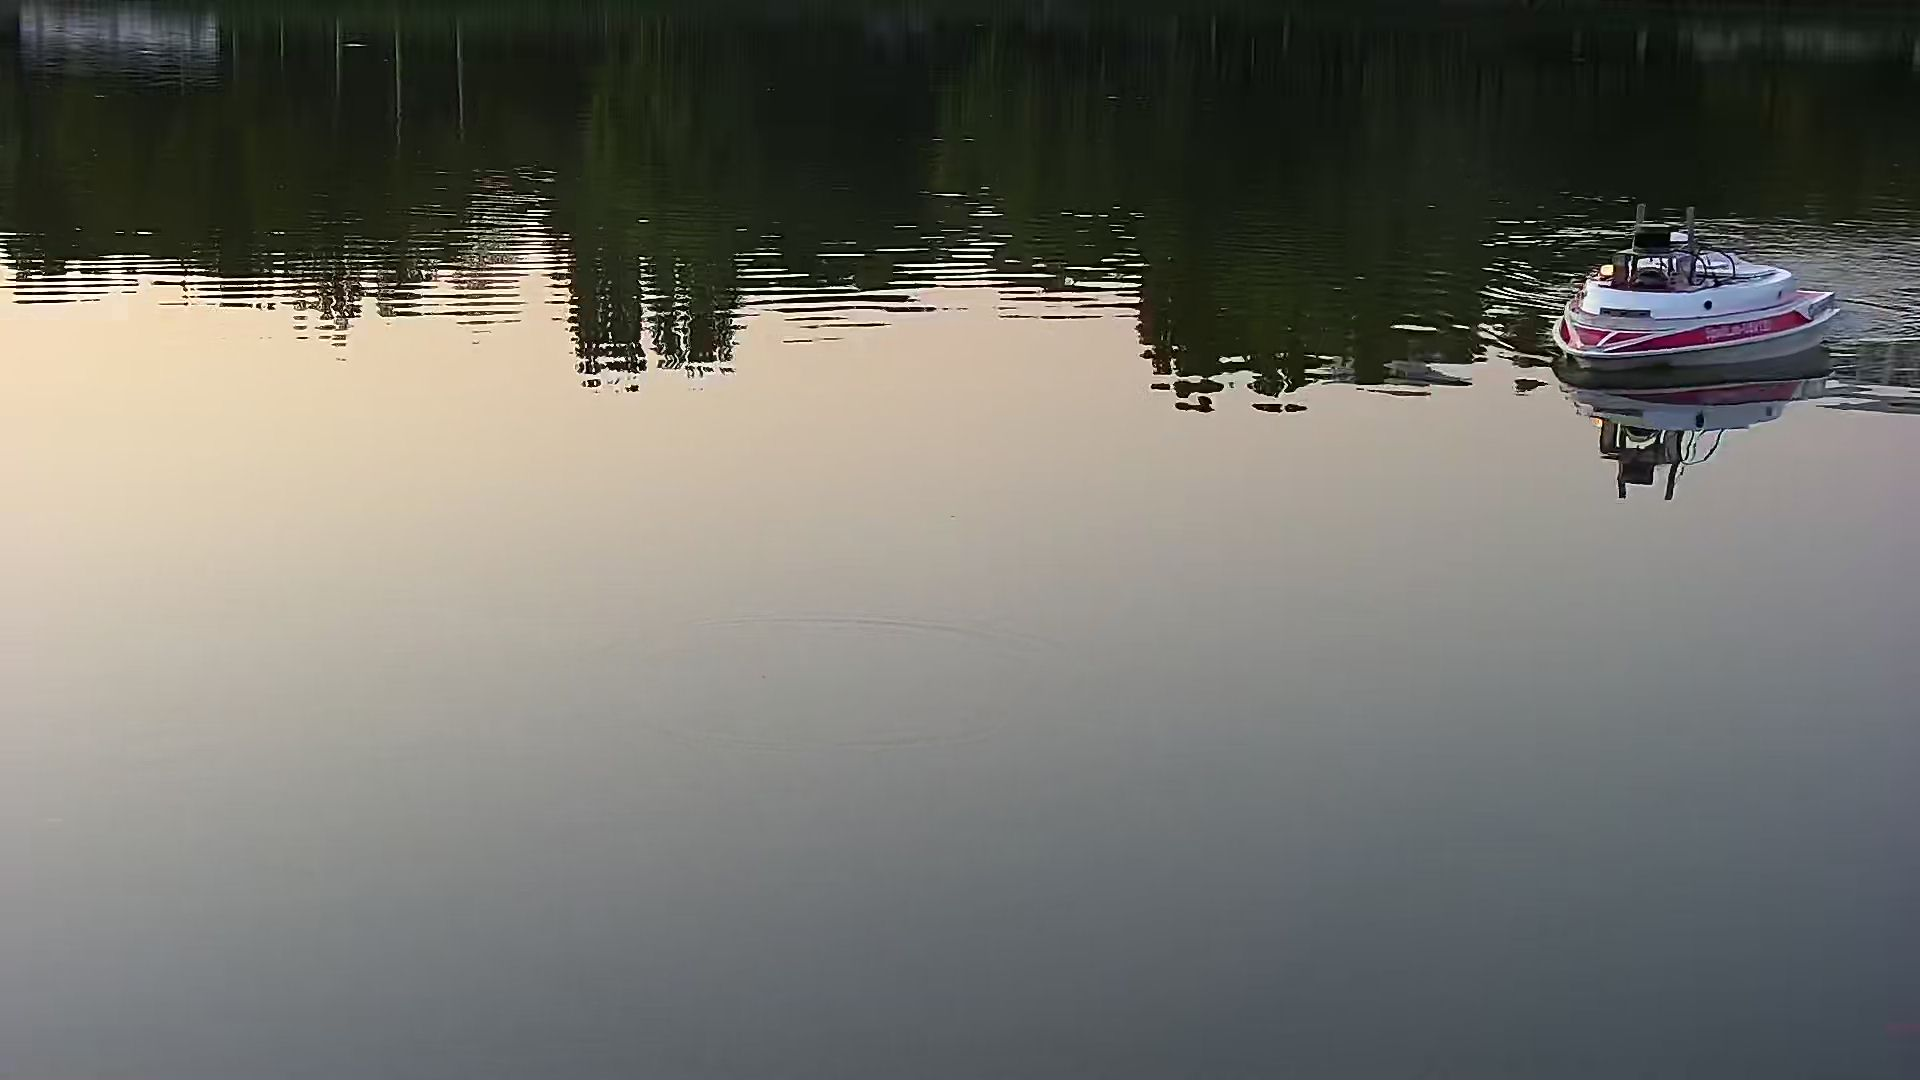boat: (1549, 199, 1836, 400)
